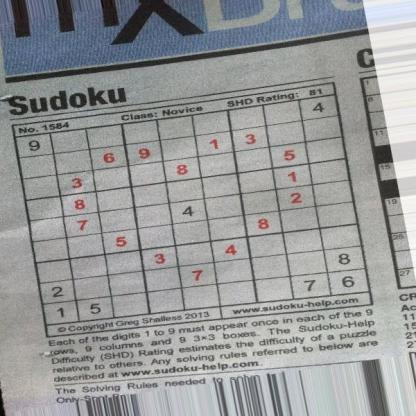sudoku: (9, 92, 371, 330)
